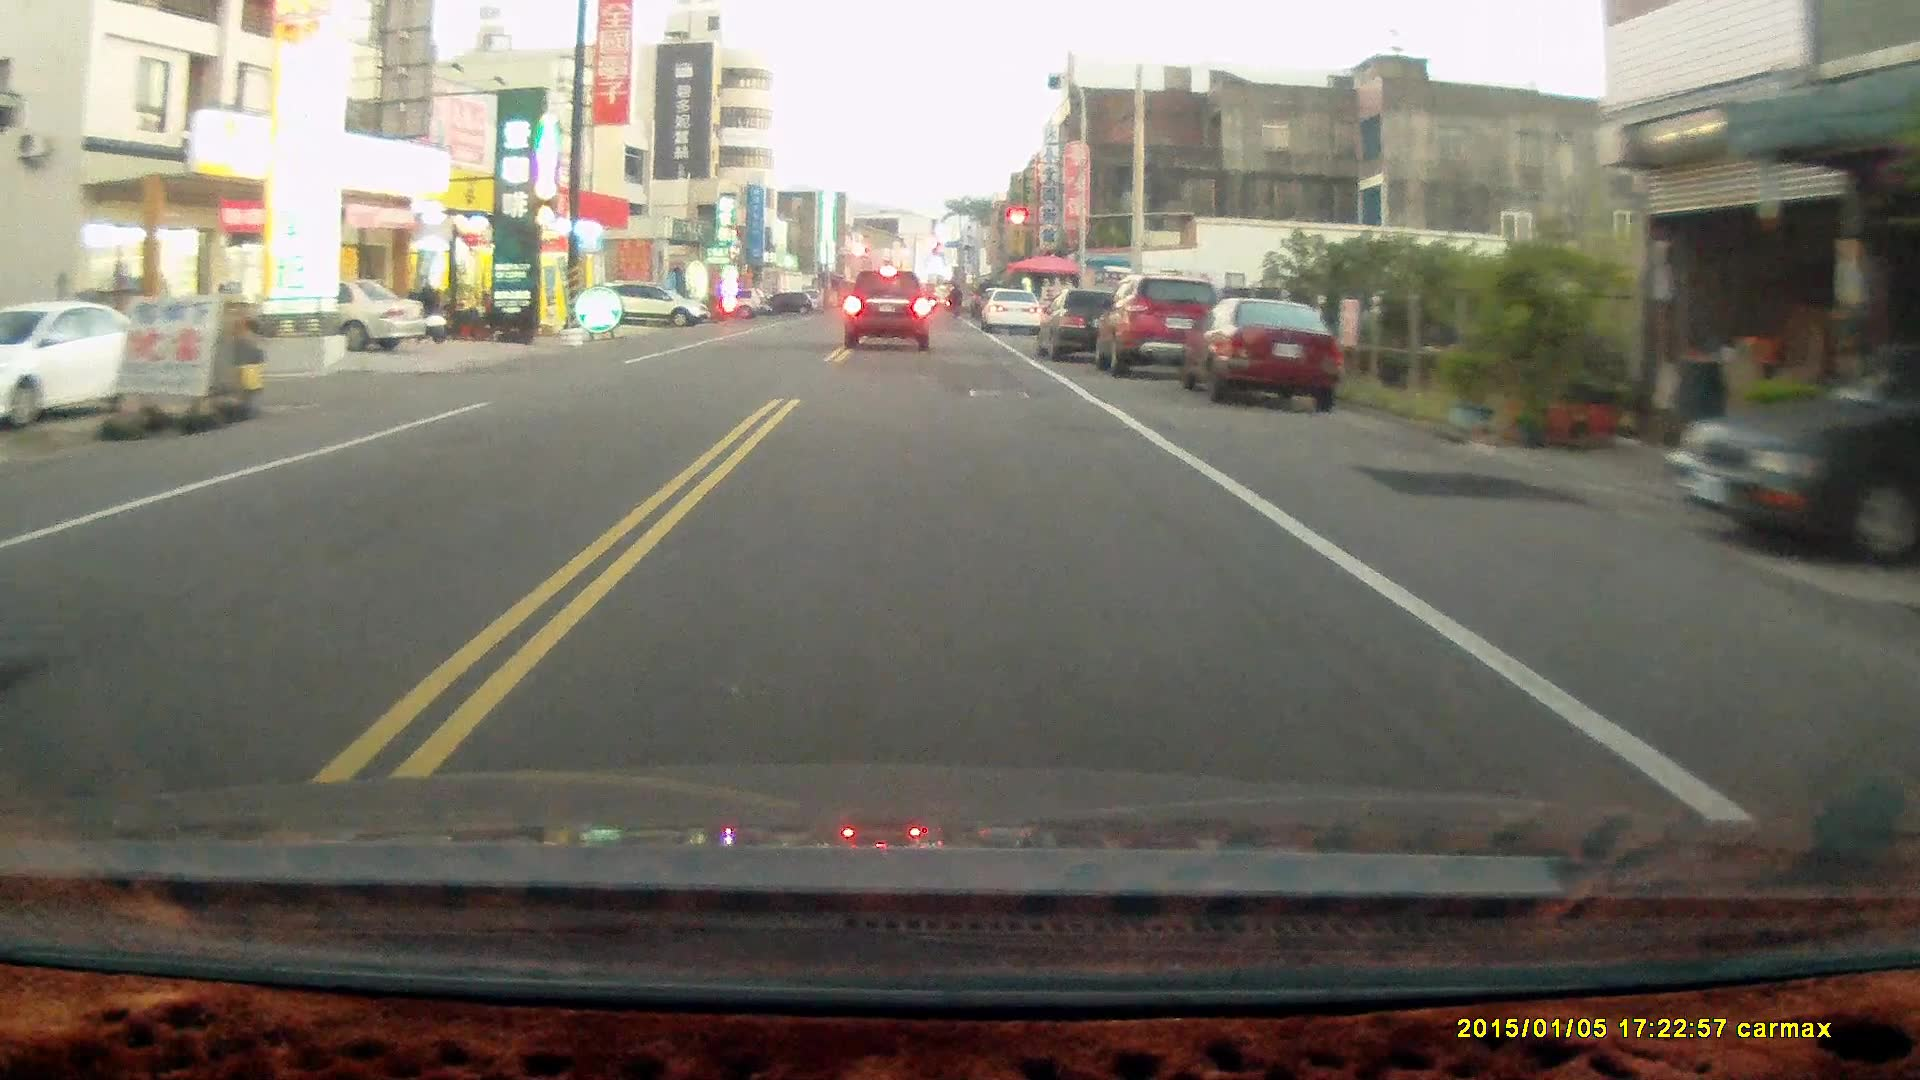vehicle: (1667, 345, 1919, 564), (3, 301, 178, 426), (1178, 299, 1348, 414), (249, 277, 429, 353), (1097, 276, 1226, 380), (1036, 290, 1150, 364), (844, 272, 934, 355), (605, 281, 704, 330), (982, 289, 1046, 339)
